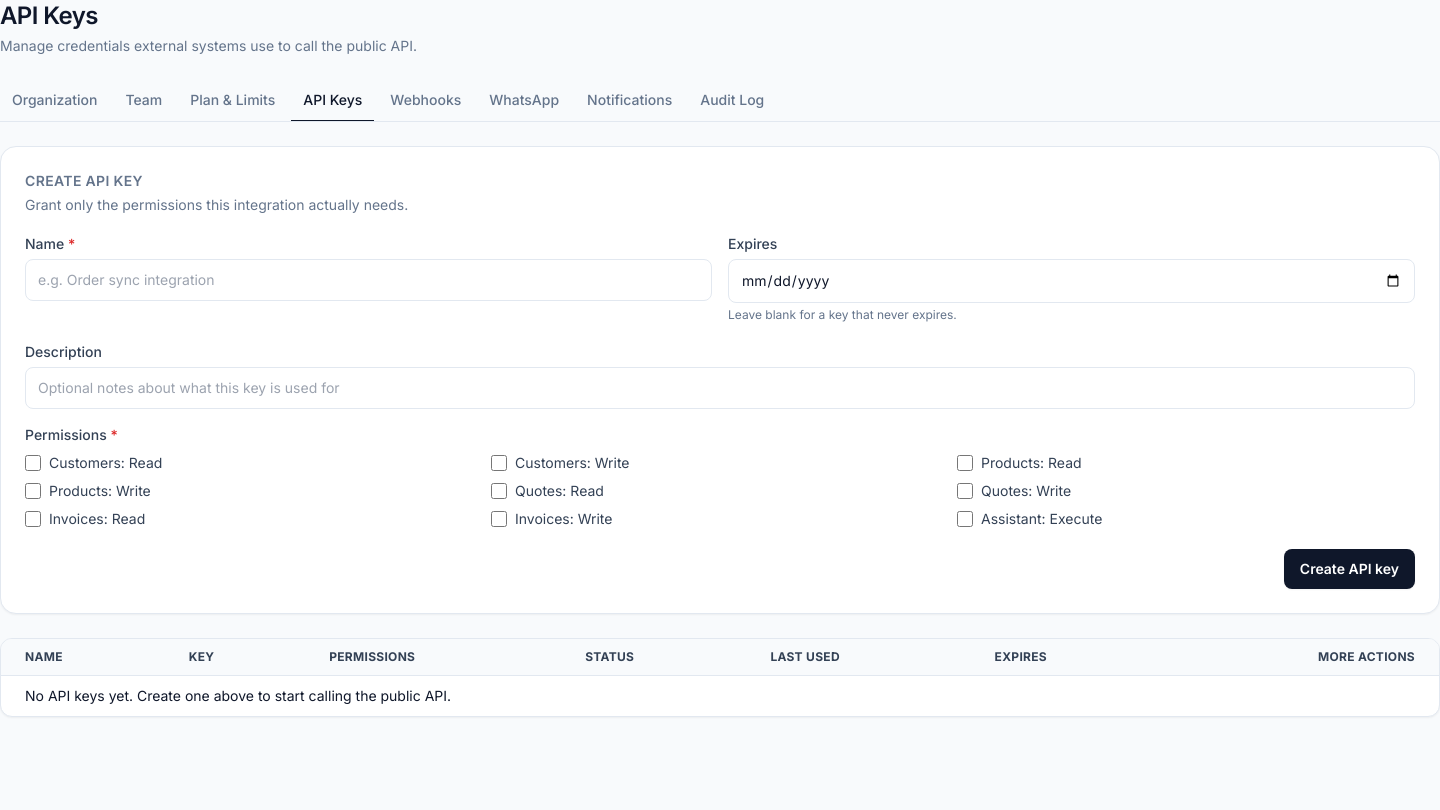
ApiKeysPage › creates a key and shows the one-time secret dialog
The width and height of the screenshot is (1440, 810).
Type "New integration" into the field labelled "Name *" at point(368, 280), box [25, 259, 712, 301]
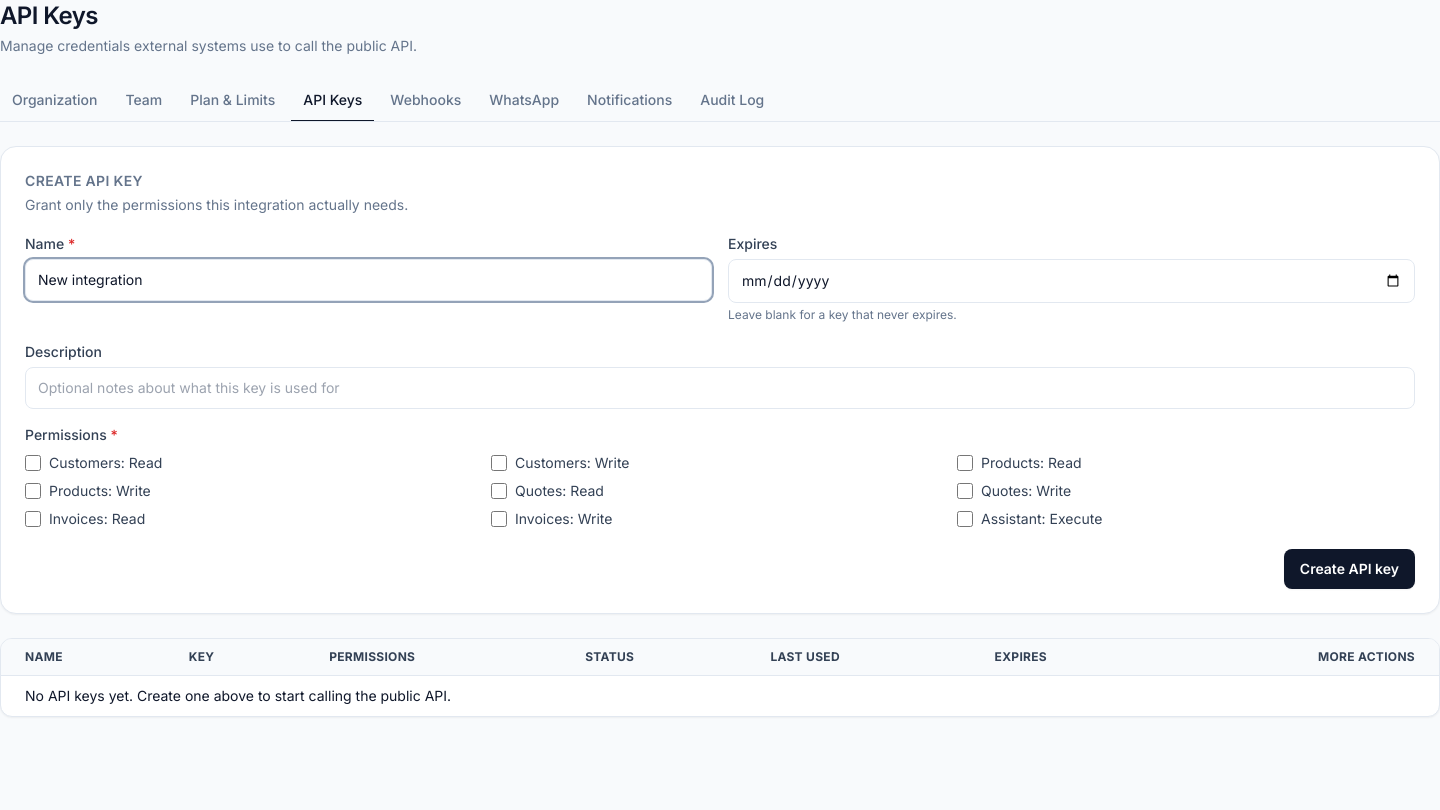
Click the checkbox labelled "Customers: Read" at point(33, 463), box [25, 455, 41, 471]
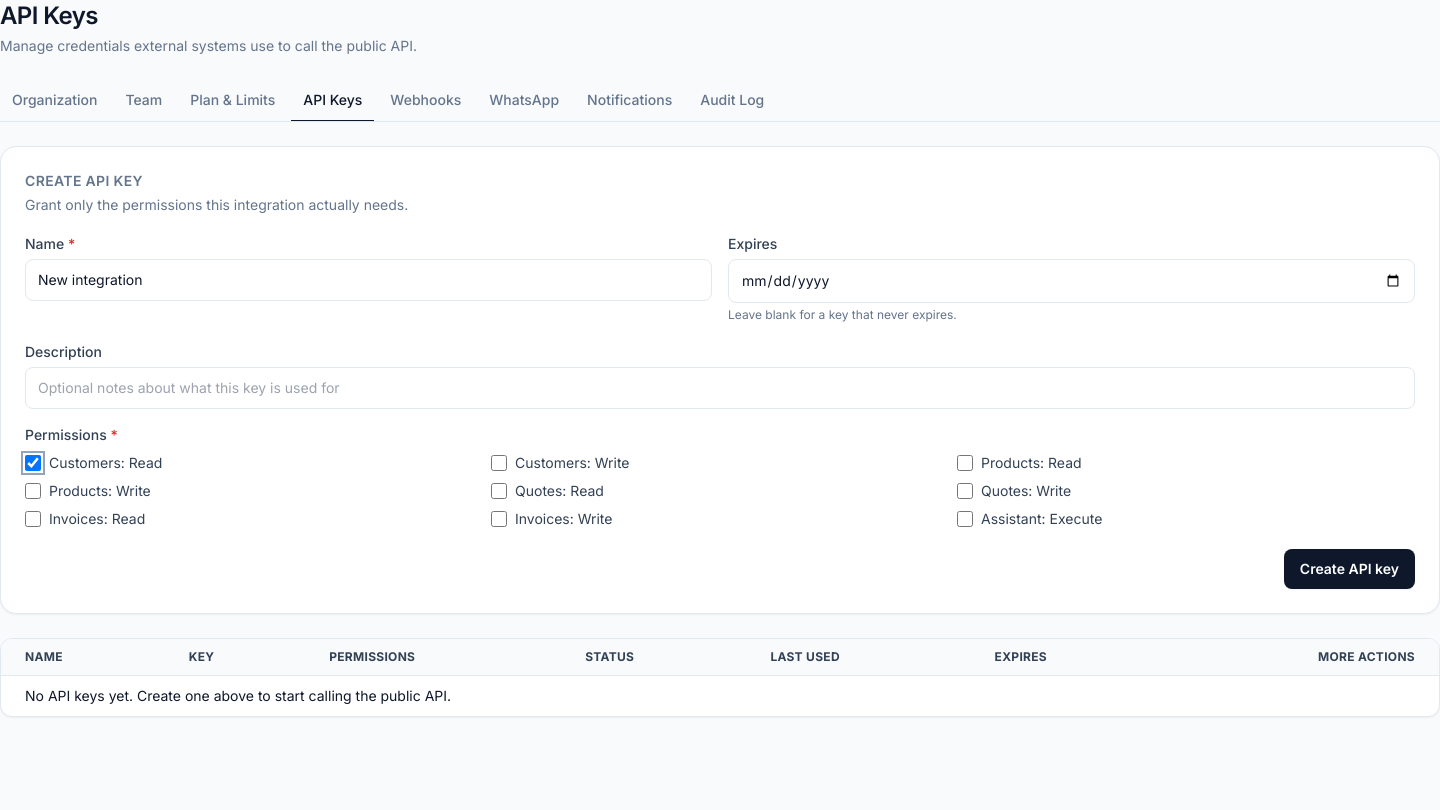
Click the button "Create API key" at point(1349, 569), box [1284, 549, 1415, 589]
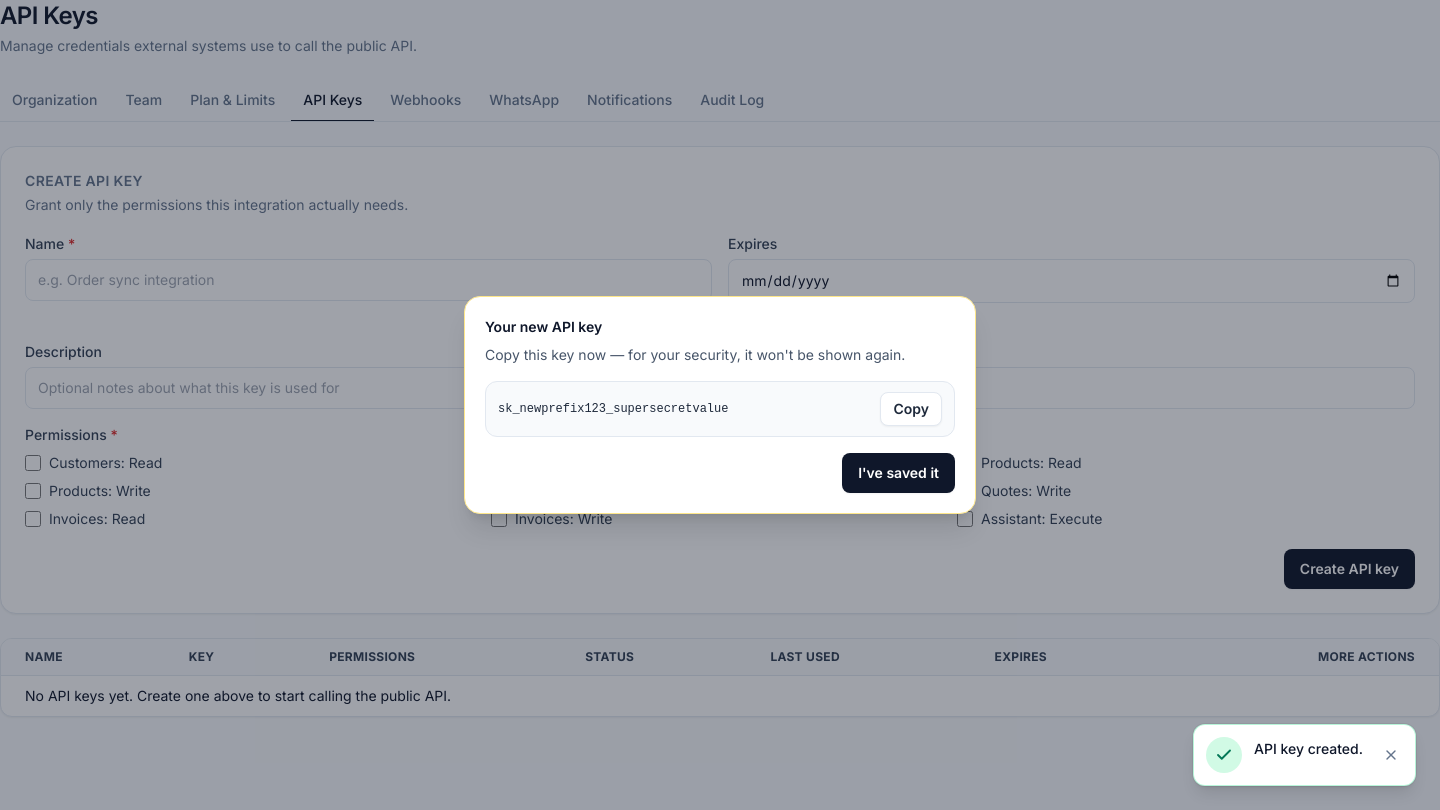
Result: the dialog is shown at [464, 296, 976, 514]
Result: the text "sk_newprefix123_supersecretvalue" is shown at [498, 402, 728, 416]
